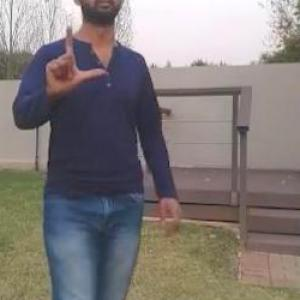land_hand: (42, 19, 106, 97)
